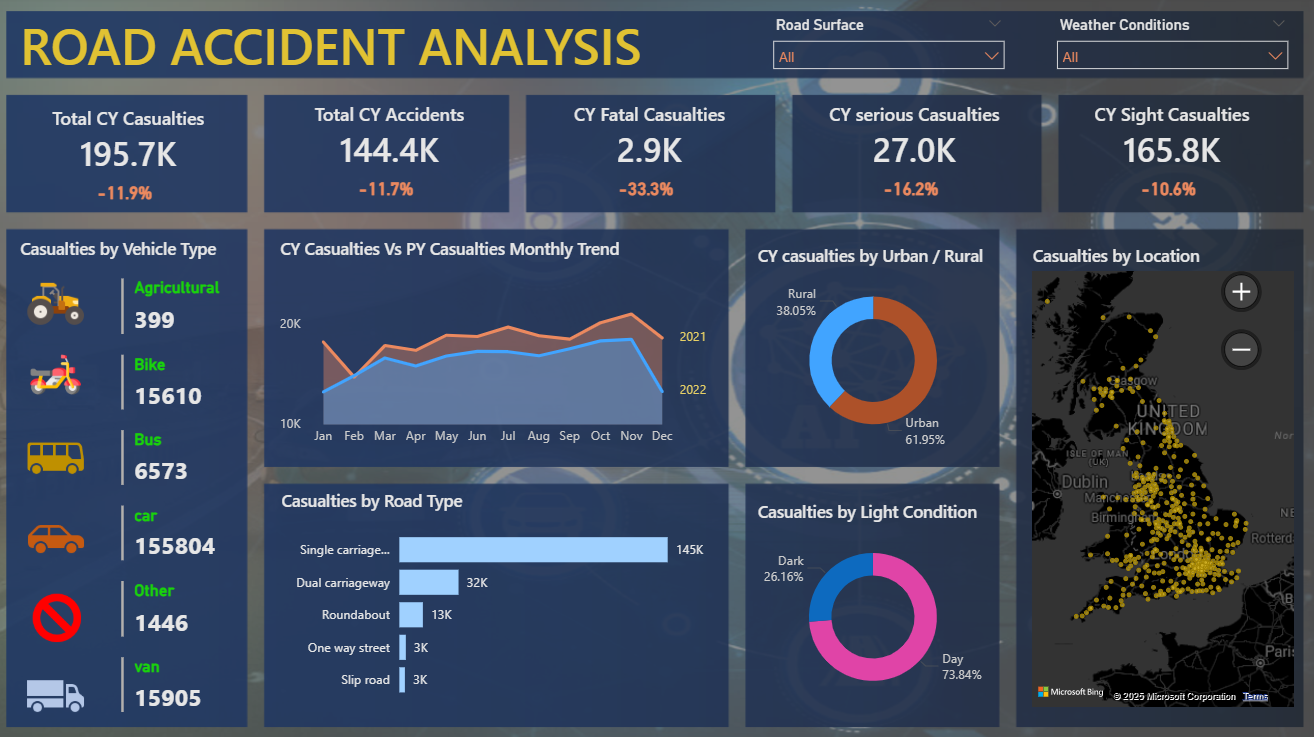

What the dashboard file says about the page in this screenshot:
{"tool":"powerbi","page":{"name":"Page 1","canvas":[1280,720],"ordinal":0},"visuals":[{"type":"card","title":"Total CY Accidents","fields":{"Values":["Data.CY Accidents count"]},"box":[271.6,102.2,218.5,69.8],"z":0,"group":"g2"},{"type":"card","title":" CY Fatal Casualties","fields":{"Values":["Data.CY casualties"]},"box":[522.4,102.2,218.5,69.8],"z":0,"group":"g3"},{"type":"card","title":"CY serious Casualties","fields":{"Values":["Data.CY casualties"]},"box":[778.5,102.2,218.5,69.8],"z":0,"group":"g4"},{"type":"card","title":"CY Sight Casualties","fields":{"Values":["Data.CY casualties"]},"box":[1026.4,102.9,218.5,69.8],"z":0,"group":"g5"},{"type":"group","id":"g1","title":"Group 1","box":[19.4,106,218.5,97],"z":0},{"type":"card","title":"Total CY Casualties","fields":{"Values":["Data.CY casualties"]},"box":[19.4,106,218.5,69.8],"z":0,"group":"g1"},{"type":"group","id":"g2","title":"Group 1","box":[271.6,102.2,218.5,97],"z":1000},{"type":"card","fields":{"Values":["Data.YOY Accidents"]},"box":[327.2,172,100.9,27.2],"z":1000,"group":"g2"},{"type":"card","fields":{"Values":["Data.YOY Casuualties"]},"box":[578,172,100.9,27.2],"z":1000,"group":"g3"},{"type":"card","fields":{"Values":["Data.YOY Casuualties"]},"box":[834.1,172,100.9,27.2],"z":1000,"group":"g4"},{"type":"card","fields":{"Values":["Data.YOY Casuualties"]},"box":[1082,172.7,100.9,27.2],"z":1000,"group":"g5"},{"type":"card","fields":{"Values":["Data.YOY Casuualties"]},"box":[75,175.8,100.9,27.2],"z":1000,"group":"g1"},{"type":"group","id":"g3","title":"Group 1","box":[522.4,102.2,218.5,97],"z":2000},{"type":"group","id":"g4","title":"Group 1","box":[778.5,102.2,218.5,97],"z":3000},{"type":"group","id":"g5","title":"Group 1","box":[1026.4,102.9,219.6,96.1],"z":4000},{"type":"textbox","box":[19.3,9.7,693.7,77.2],"z":5000},{"type":"multiRowCard","fields":{"Values":["Data.Vehicle_Type (groups)","Data.CY casualties"]},"box":[117,267.8,120.6,452.4],"z":6000},{"type":"image","box":[25.3,341.4,66.4,48.3],"z":7000},{"type":"image","box":[24.1,416.2,68.8,59.1],"z":8000},{"type":"image","box":[22.9,494.6,72.4,59.1],"z":9000},{"type":"image","box":[25.3,570.6,68.8,59.1],"z":10000},{"type":"image","box":[25.3,645.4,66.4,60.3],"z":11000},{"type":"image","box":[25.3,267.8,66.4,57.9],"z":12000},{"type":"areaChart","title":"CY Casualties Vs  PY Casualties Monthly Trend","fields":{"Category":["calendar.Month"],"Y":["Sum(Data.Number_of_Casualties)"],"Series":["calendar.Date.Variation.Date Hierarchy.Year"]},"box":[270.2,232.8,424.7,209.9],"z":13000},{"type":"donutChart","title":"CY casualties by Urban / Rural","fields":{"Category":["Data.Urban_or_Rural_Area"],"Y":["Data.CY casualties"]},"box":[731.4,238.8,233.3,204.5],"z":14000},{"type":"barChart","title":"Casualties by Road Type","fields":{"Category":["Data.Road_Type"],"Y":["Data.CY casualties"]},"box":[271.7,474.8,424,215.4],"z":15000},{"type":"map","title":"Casualties by Location","fields":{"Y":["Data.Latitude"],"X":["Data.Longitude"],"Category":["Data.Local_Authority_(District)"]},"box":[996.5,238.9,261.8,452.4],"z":16000},{"type":"donutChart","title":" Casualties by Light Condition","fields":{"Y":["Data.CY casualties"],"Category":["Data.Light_Conditions (groups)"]},"box":[731.1,486.2,232.8,205.1],"z":17000},{"type":"slicer","fields":{"Values":["Data.Weather_Conditions (groups)"]},"box":[1014.6,14.5,243.7,63.9],"z":18000},{"type":"slicer","fields":{"Values":["Data.Road_Surface_Conditions (groups)"]},"box":[740.8,14.5,243.7,63.9],"z":19000},{"type":"textbox","box":[19.3,228,218.4,31.4],"z":20000}]}

Visuals, with their boxes in screenshot pixels (x1, y1, x2, y2), scaled from the page's 1280x720 canvas onto the 1314x737 screenshot:
"Total CY Accidents" card: BBox(279, 105, 503, 176)
" CY Fatal Casualties" card: BBox(536, 105, 761, 176)
"CY serious Casualties" card: BBox(799, 105, 1023, 176)
"CY Sight Casualties" card: BBox(1054, 105, 1278, 177)
"Group 1" group: BBox(20, 109, 244, 208)
"Total CY Casualties" card: BBox(20, 109, 244, 180)
"Group 1" group: BBox(279, 105, 503, 204)
card - Data.YOY Accidents: BBox(336, 176, 439, 204)
card - Data.YOY Casuualties: BBox(593, 176, 697, 204)
card - Data.YOY Casuualties: BBox(856, 176, 960, 204)
card - Data.YOY Casuualties: BBox(1111, 177, 1214, 205)
card - Data.YOY Casuualties: BBox(77, 180, 181, 208)
"Group 1" group: BBox(536, 105, 761, 204)
"Group 1" group: BBox(799, 105, 1023, 204)
"Group 1" group: BBox(1054, 105, 1279, 204)
textbox: BBox(20, 10, 732, 89)
multiRowCard - Data.Vehicle_Type (groups) x Data.CY casualties: BBox(120, 274, 244, 736)
image: BBox(26, 349, 94, 399)
image: BBox(25, 426, 95, 487)
image: BBox(24, 506, 98, 567)
image: BBox(26, 584, 97, 645)
image: BBox(26, 661, 94, 722)
image: BBox(26, 274, 94, 333)
"CY Casualties Vs  PY Casualties Monthly Trend" areaChart: BBox(277, 238, 713, 453)
"CY casualties by Urban / Rural" donutChart: BBox(751, 244, 990, 454)
"Casualties by Road Type" barChart: BBox(279, 486, 714, 706)
"Casualties by Location" map: BBox(1023, 245, 1292, 708)
" Casualties by Light Condition" donutChart: BBox(751, 498, 990, 708)
slicer - Data.Weather_Conditions (groups): BBox(1042, 15, 1292, 80)
slicer - Data.Road_Surface_Conditions (groups): BBox(760, 15, 1011, 80)
textbox: BBox(20, 233, 244, 266)
